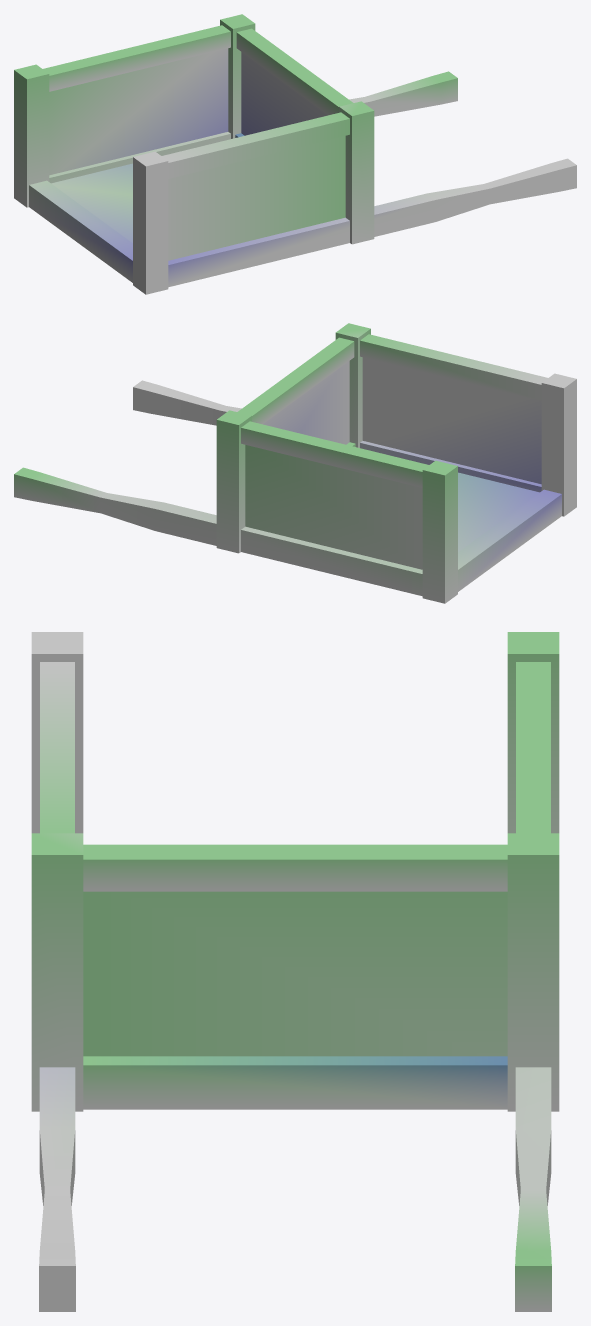
The model's file is Cart_2.fbx.
3 views of the same model, one above another, from view 1: azimuth 30°, elevation 25°; view 2: azimuth 150°, elevation 25°; view 3: azimuth 270°, elevation 25° (orthographic). The views are drawn at different scales.
Visible parts, largest first — view 1: Cart_2; view 2: Cart_2; view 3: Cart_2.
Boxes of the visible parts, x1,y1,x2,y2 form: Cart_2: (14, 14, 576, 294); Cart_2: (14, 323, 576, 603); Cart_2: (31, 632, 559, 1311).
Bounding box in the file's own units: 2.1 × 0.5967 × 1.11.
